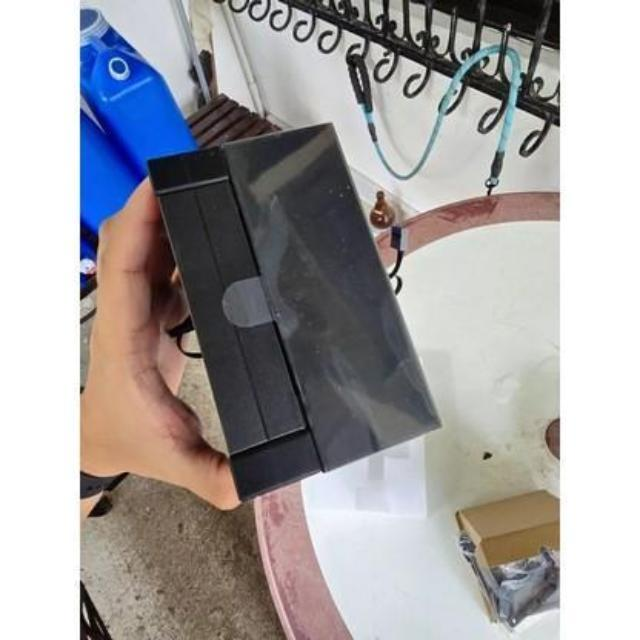CPU_Fan: (146, 122, 448, 500)
